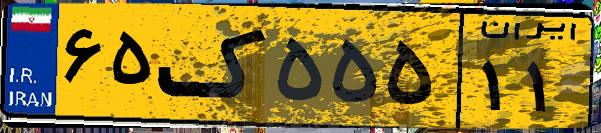1: (475, 38, 525, 113), (525, 38, 570, 115)
5: (270, 28, 330, 110), (385, 28, 445, 110), (330, 28, 385, 110), (110, 28, 158, 98)
6: (57, 26, 110, 100)
ک: (158, 12, 270, 120)
